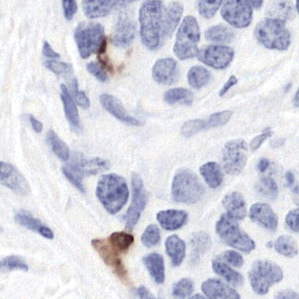Lymphocyte: (108, 230, 137, 253)
